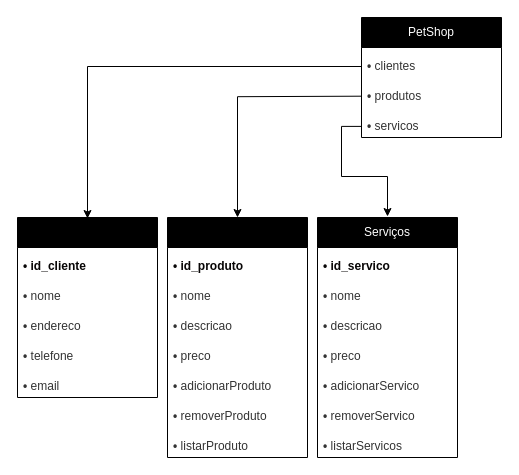
Image size: 519x475. Some labels were removed from this diagram. Here are the shapes that lost their labels. From the top down, the box of each, then its label:
(16, 216, 158, 398): Clientes
(166, 216, 308, 458): Produtos
